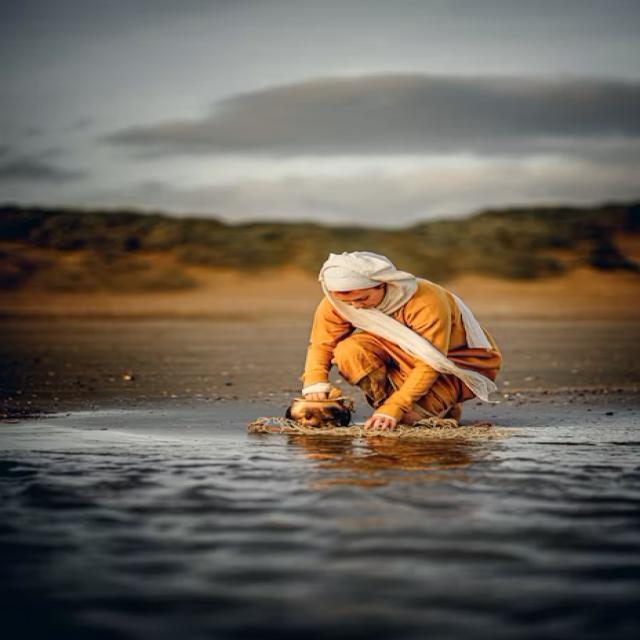Edited images: (265, 232, 531, 467)
